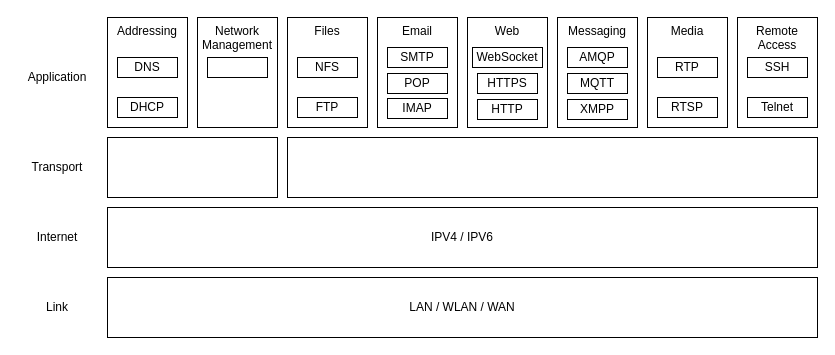
This 835x355 diagram has some shape labels left out. Here are the shapes that lost their labels. From the top down, the centre of each, then its label:
point 237,67: SNMP
point 192,167: UDP
point 552,167: TCP
